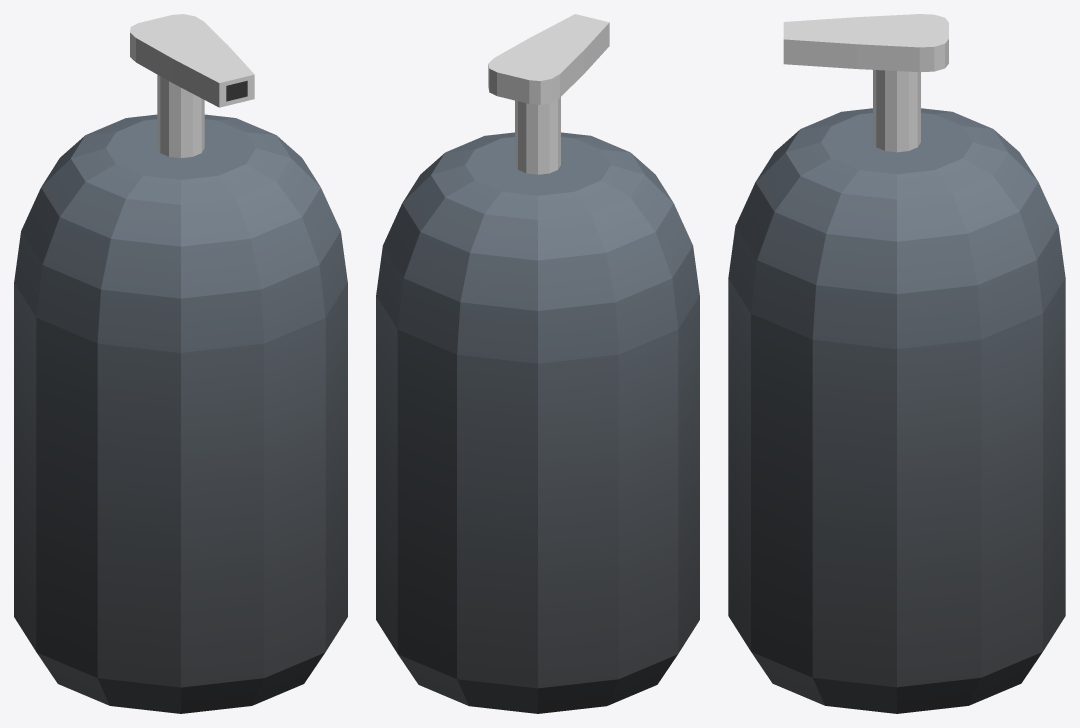
Rendered from BathroomProps_01.fbx.
The picture shows the model from 3 angles, left to right: view 1: azimuth 30°, elevation 25°; view 2: azimuth 150°, elevation 25°; view 3: azimuth 270°, elevation 25°; orthographic projection. The views are drawn at different scales.
Visible parts, largest first — view 1: BathroomProps_01; view 2: BathroomProps_01; view 3: BathroomProps_01.
Boxes of the visible parts, x1,y1,x2,y2 form: BathroomProps_01: (14,14,347,713); BathroomProps_01: (376,14,699,713); BathroomProps_01: (728,14,1065,713).
Size of the model in its own units: 8.06 by 16.42 by 8.06.
